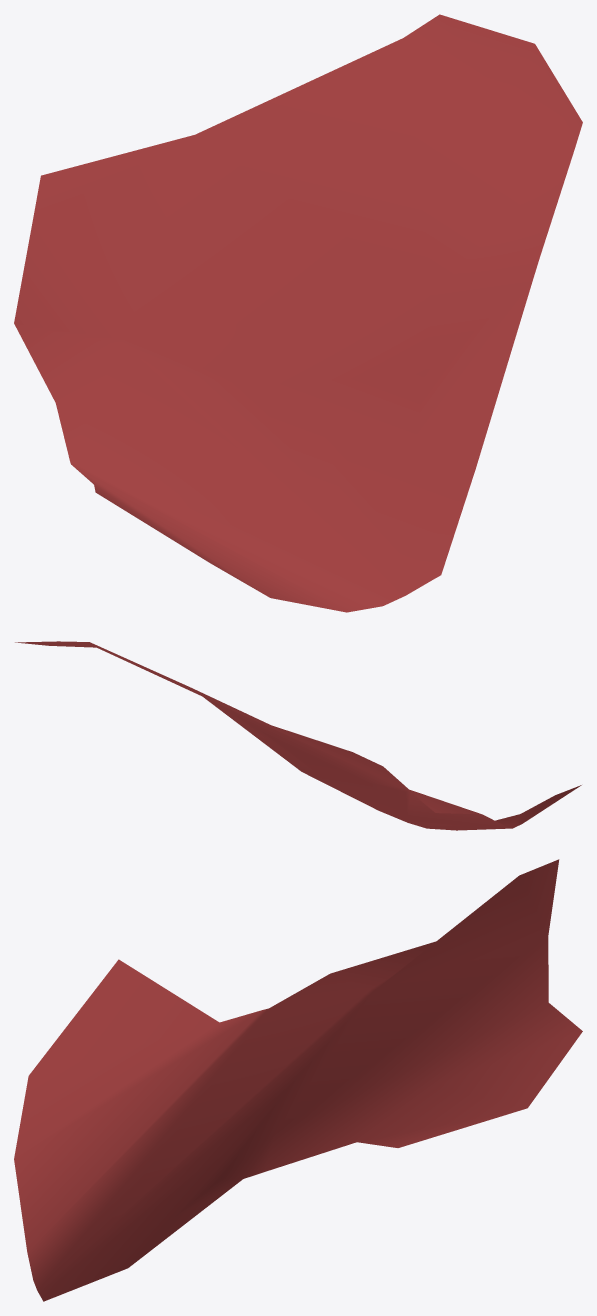
File: splenius-colli-muscle-e1l.glb
3 renders of one model, top to bottom at view 1: azimuth 30°, elevation 25°; view 2: azimuth 150°, elevation 25°; view 3: azimuth 270°, elevation 25°, orthographic. The views are drawn at different scales.
Parts seen in each view (by area): view 1: Splenius colli muscle.e1l; view 2: Splenius colli muscle.e1l; view 3: Splenius colli muscle.e1l.
Boxes of the visible parts, x1,y1,x2,y2 form: Splenius colli muscle.e1l: [14, 14, 582, 612]; Splenius colli muscle.e1l: [15, 641, 581, 830]; Splenius colli muscle.e1l: [14, 859, 582, 1301].
Size of the model in its own units: 0.00506 by 0.00278 by 0.00344.
